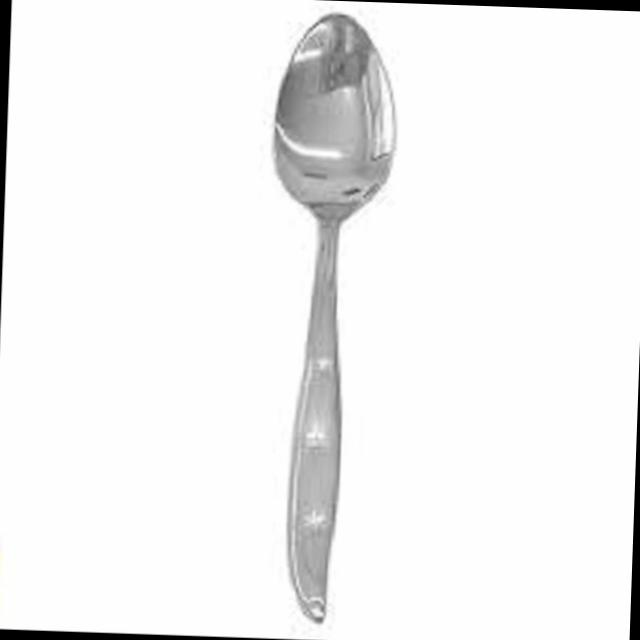spoon: (242, 5, 408, 626)
